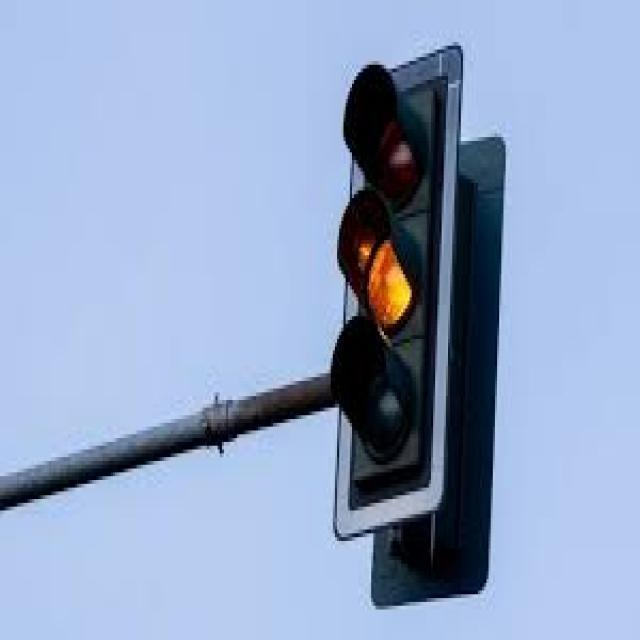yellow_light: (331, 46, 460, 530)
